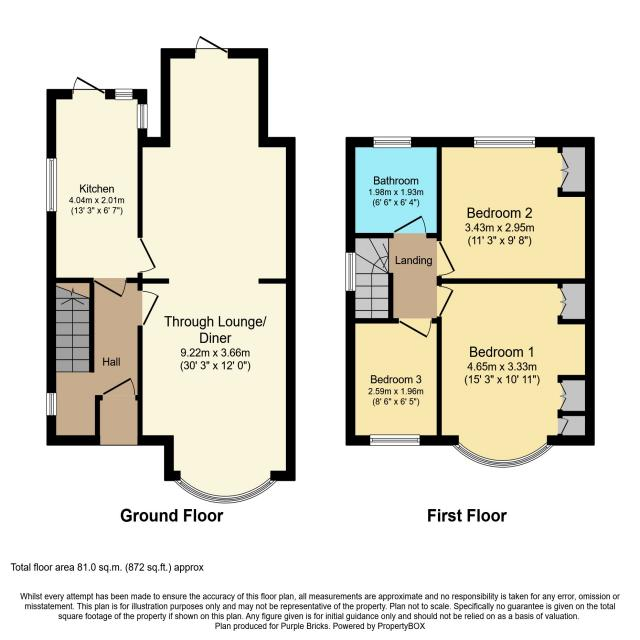DOOR: (137, 290, 160, 329), (194, 34, 228, 60), (72, 75, 107, 100), (392, 214, 427, 239), (102, 376, 136, 401), (398, 317, 433, 340), (93, 277, 127, 299), (137, 237, 157, 274), (436, 240, 456, 277), (436, 285, 455, 318)
ROOM: (136, 34, 296, 505), (435, 278, 596, 469), (46, 75, 157, 299), (436, 136, 595, 284), (345, 318, 442, 446), (345, 136, 442, 238)
WINDOW: (173, 477, 278, 505), (451, 441, 555, 469), (473, 135, 536, 149), (369, 434, 421, 447), (46, 158, 58, 212), (344, 252, 357, 292), (373, 136, 412, 149), (136, 103, 148, 129), (46, 392, 57, 417), (115, 88, 134, 101)
